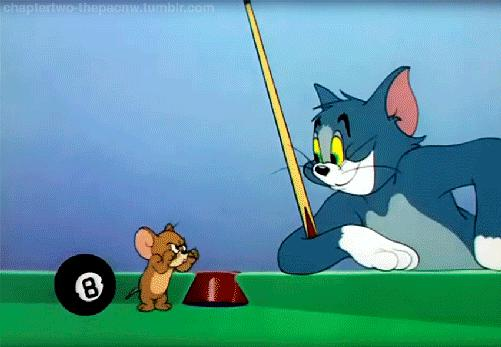jerry: (124, 221, 202, 314)
